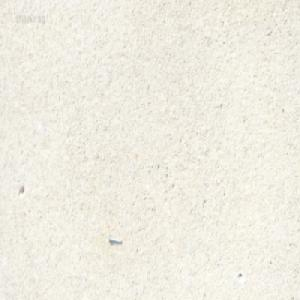Nail: (108, 235, 123, 244)
